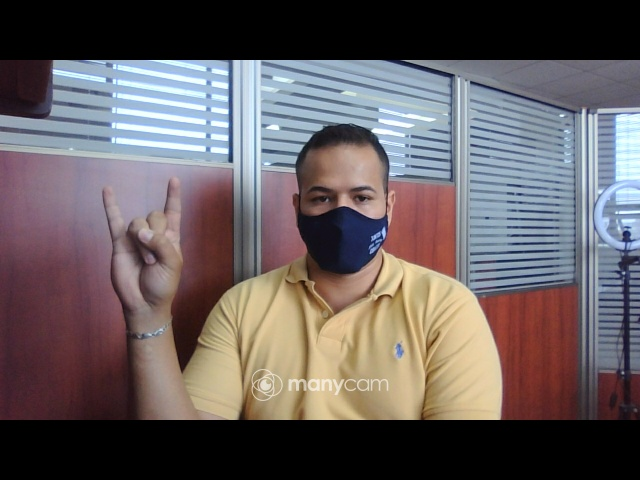I Love You: (99, 171, 188, 315)
